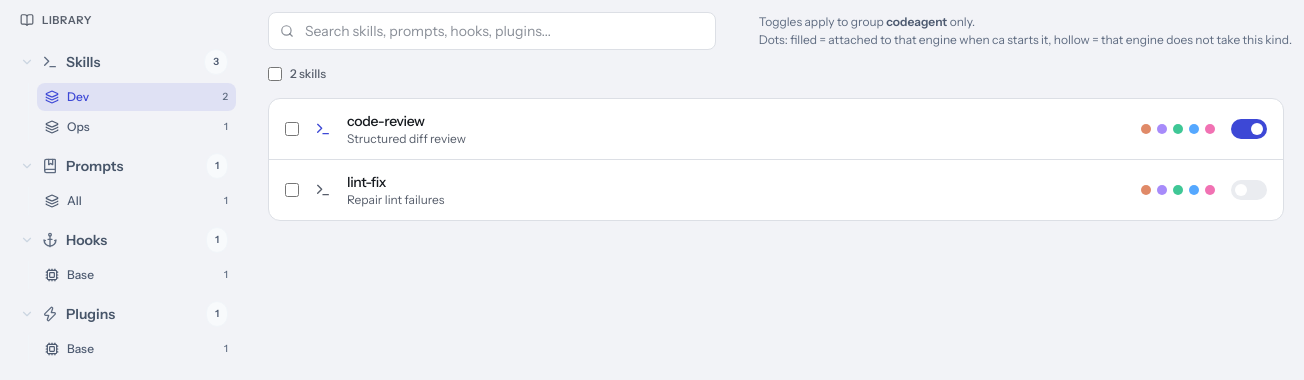
Test: ResourceHub cards and detail view › clicking a card opens the detail view, back returns to the list
Click the button "code-review Structured diff review" at (386, 121), box [285,112,1267,146]
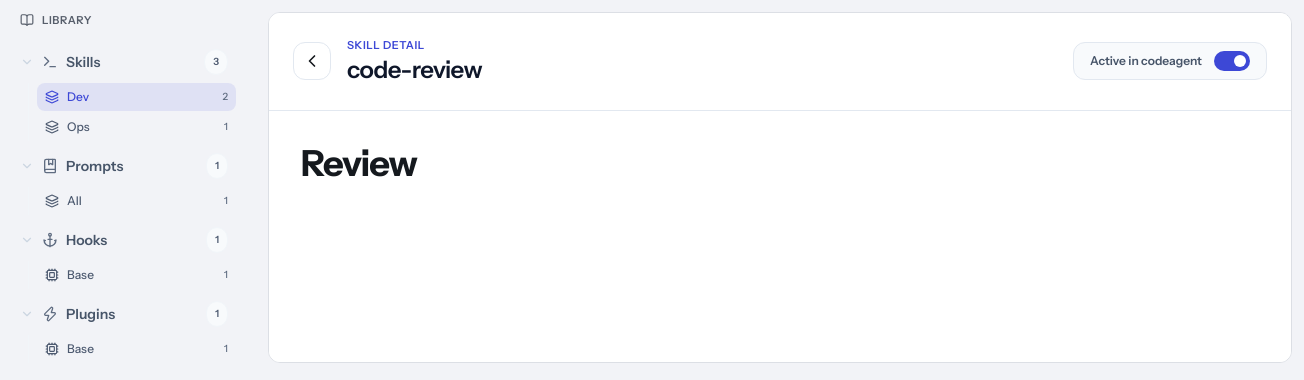
Expected: the heading "code-review" is shown, [347,54,482,84]
Expected: the button "lint-fix" is gone
Click the button named "Back to the resource list" at (312, 61), box [293,42,331,80]
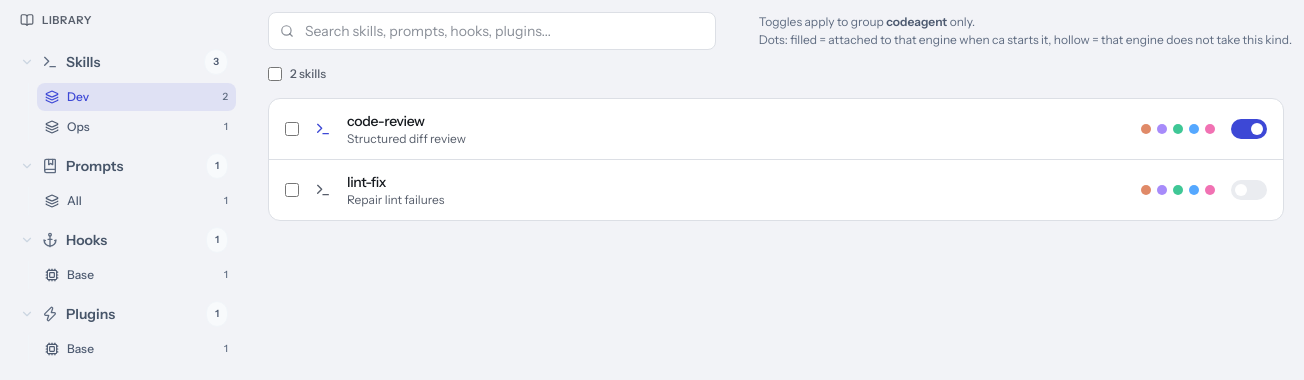
Expected: the heading "lint-fix" is shown, [347,172,386,192]
